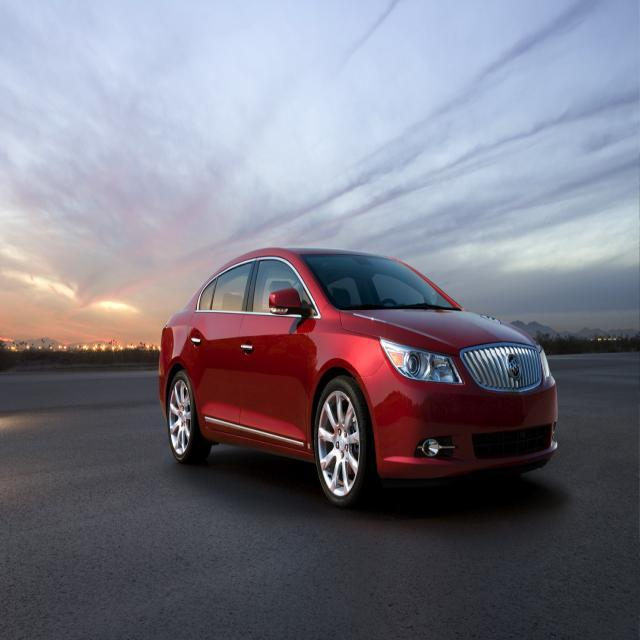car: (152, 248, 562, 507)
